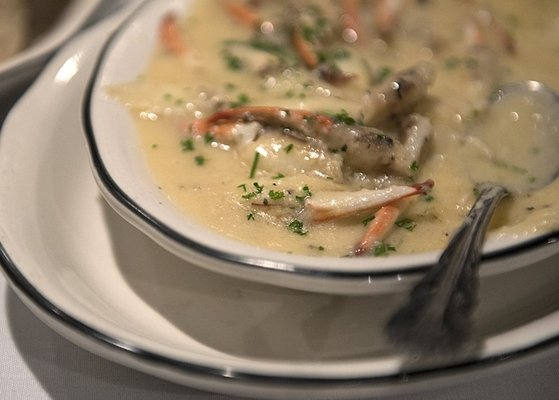salad: (387, 183, 509, 353)
